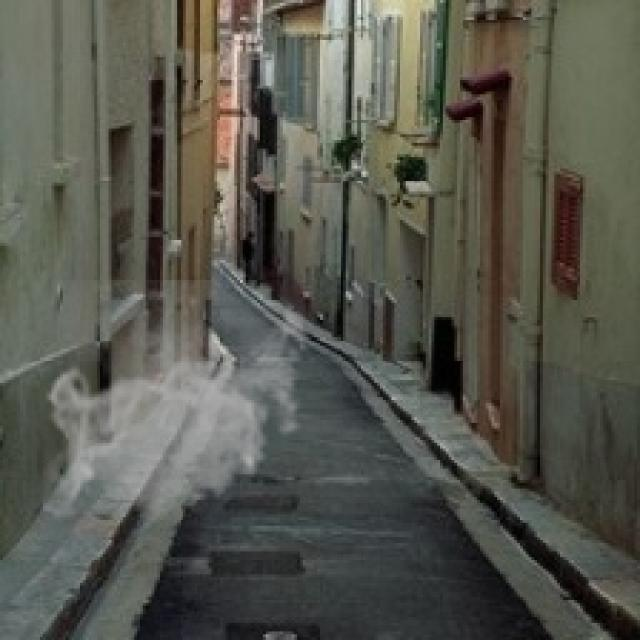Smoke: (42, 279, 318, 532)
